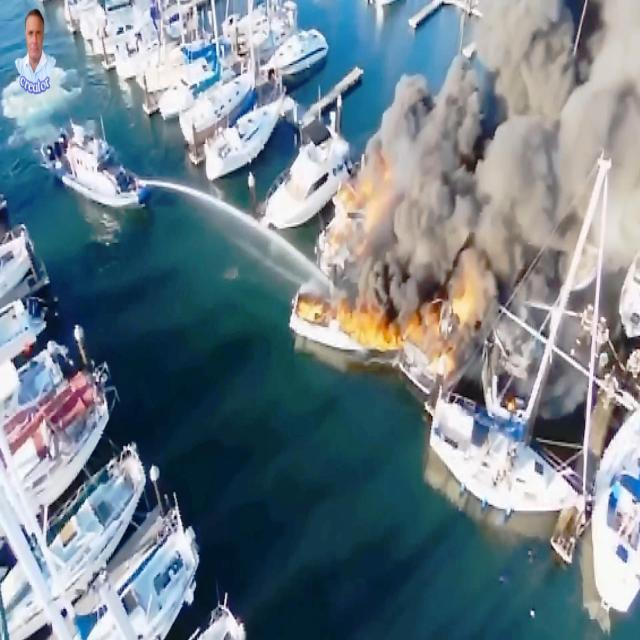Fire: (340, 298, 404, 362)
Smoke: (478, 0, 639, 210), (390, 71, 480, 242)
